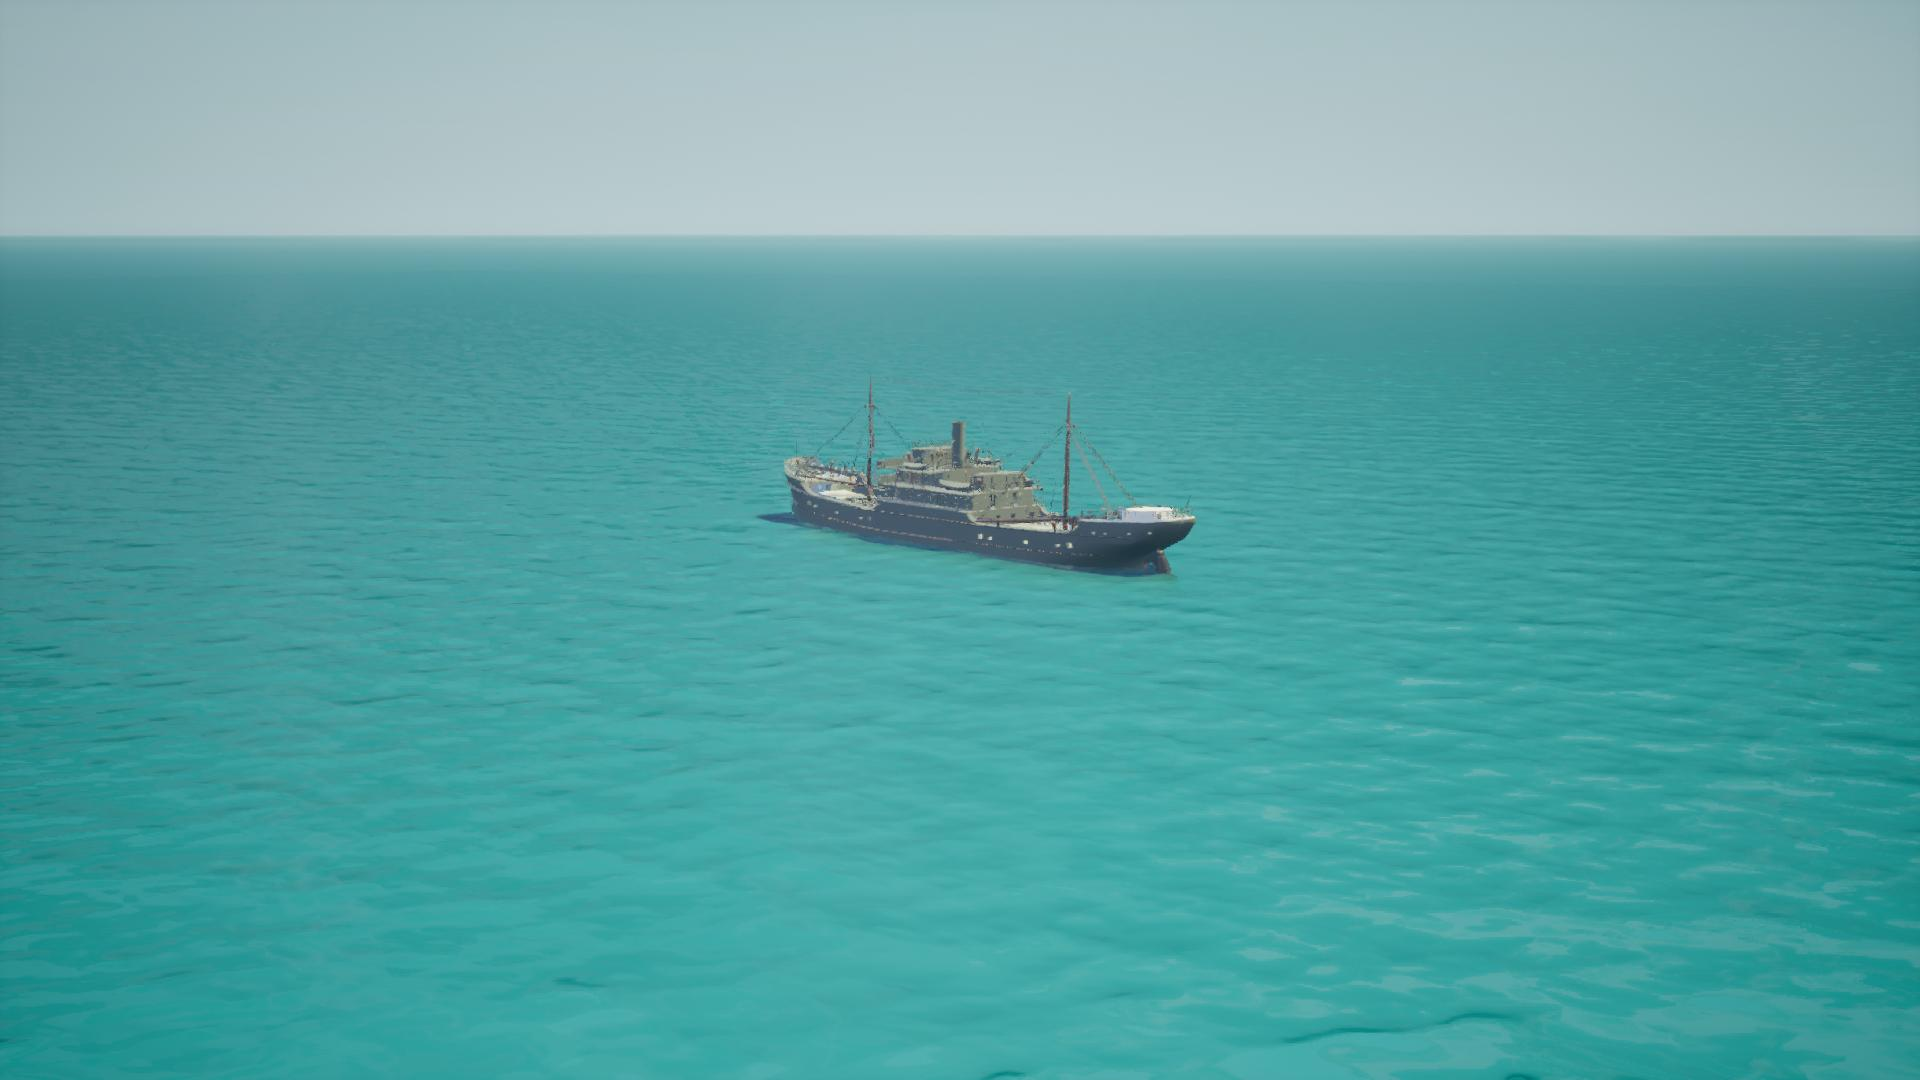Fishing Boat: (773, 380, 1196, 576)
